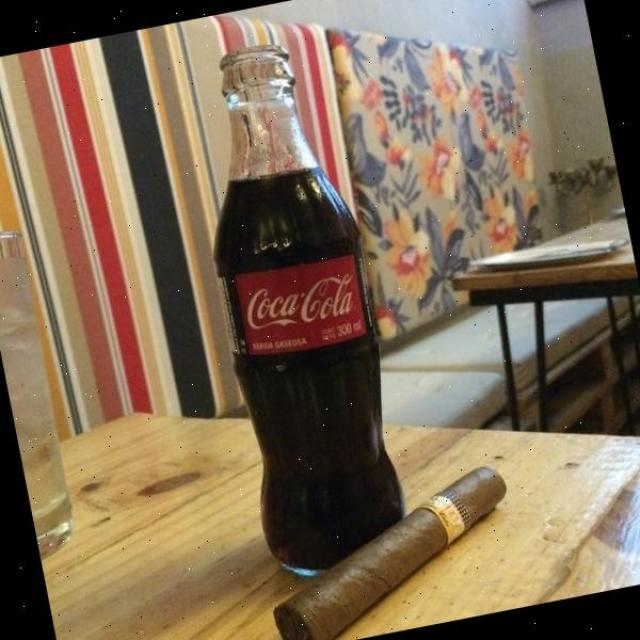coca-cola: (168, 24, 424, 582)
